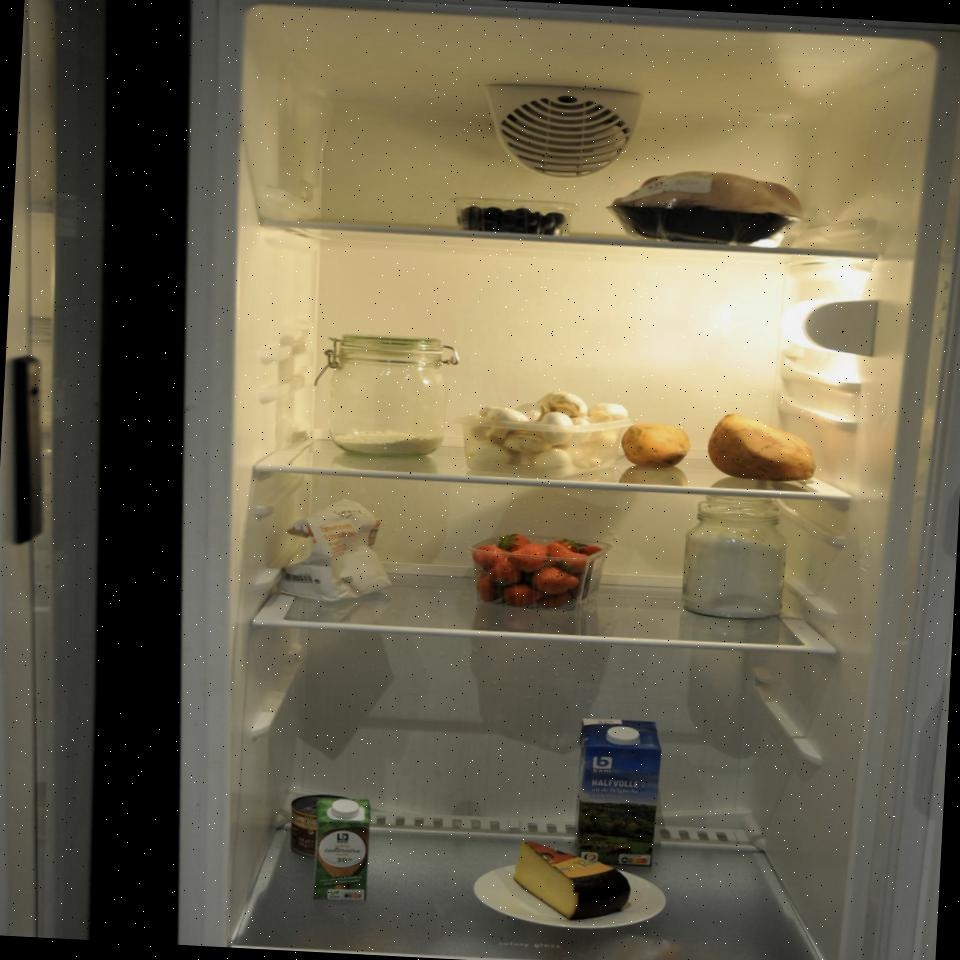Carne pollo: (602, 162, 815, 251)
Leche: (568, 713, 665, 868)
Queso: (504, 839, 638, 926)
